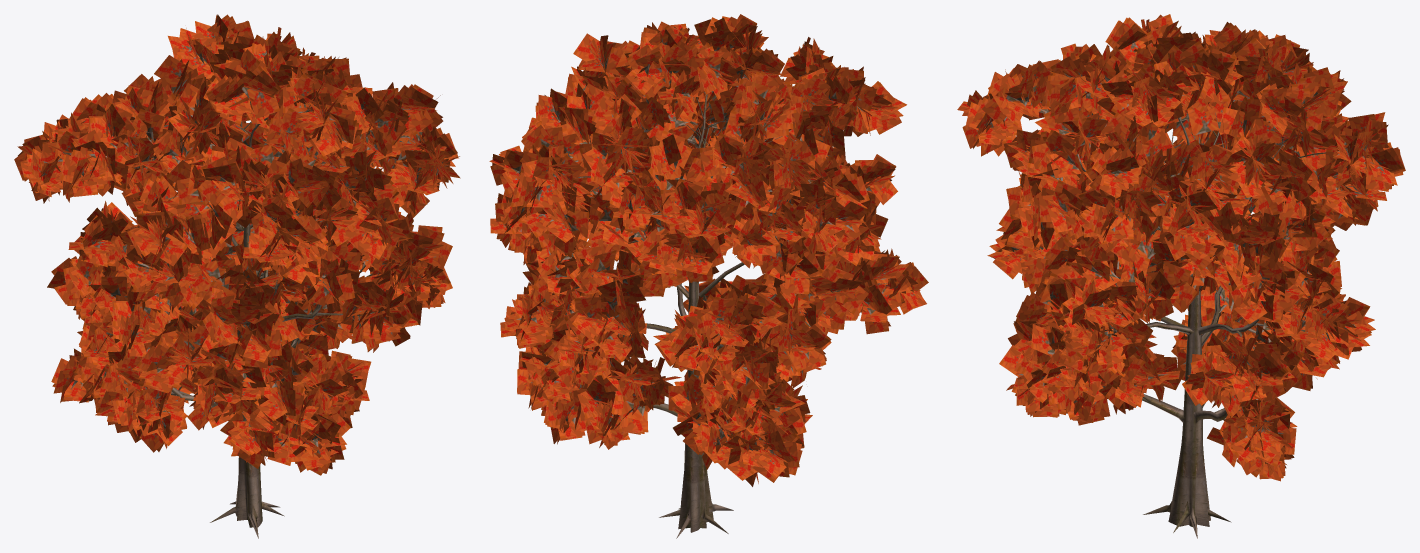
The model's file is maple-fall-balanced.gltf.
The picture shows the model from 3 angles, left to right: view 1: azimuth 30°, elevation 25°; view 2: azimuth 150°, elevation 25°; view 3: azimuth 270°, elevation 25°; orthographic projection. The views are drawn at different scales.
Visible parts, largest first — view 1: Sugar Maple balanced Fall; view 2: Sugar Maple balanced Fall; view 3: Sugar Maple balanced Fall.
Boxes of the visible parts, x1,y1,x2,y2 form: Sugar Maple balanced Fall: [14, 14, 460, 538]; Sugar Maple balanced Fall: [489, 14, 928, 538]; Sugar Maple balanced Fall: [957, 14, 1405, 538].
Bounding box in the file's own units: 769 × 961 × 797.
Materials: 2 (2 with a texture image).
